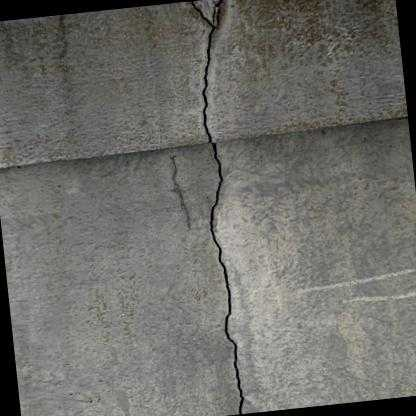crack: (190, 0, 244, 414)
